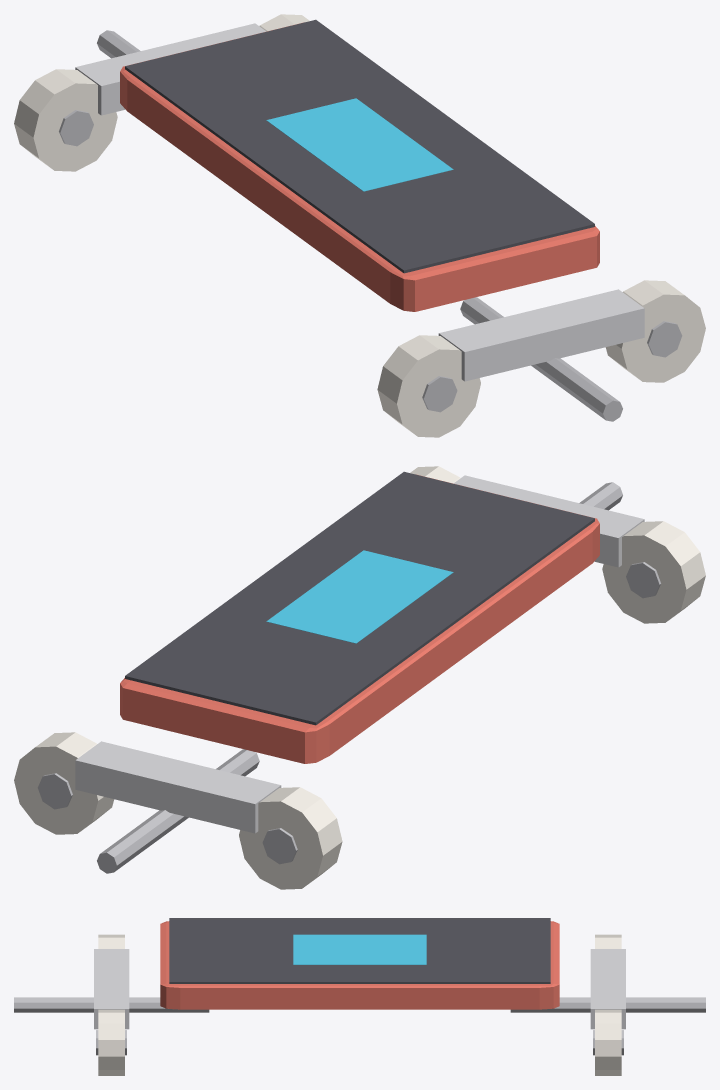
The model's file is skateboard.fbx.
The picture shows the model from 3 angles, top to bottom: view 1: azimuth 30°, elevation 25°; view 2: azimuth 150°, elevation 25°; view 3: azimuth 270°, elevation 25°; orthographic projection. The views are drawn at different scales.
Parts seen in each view (by area): view 1: SK_Grip, SK_Deck, SK_Truck, SK_Decal, SK_Wheel, SK_Wheel.002, SK_Wheel.001, SK_Truck.001, SK_Axle, SK_Hub.001, SK_Hub.002, SK_Hub (+1 smaller); view 2: SK_Grip, SK_Deck, SK_Truck.001, SK_Decal, SK_Wheel.002, SK_Wheel, SK_Wheel.003, SK_Truck, SK_Axle.001, SK_Hub.003, SK_Hub, SK_Hub.002 (+1 smaller); view 3: SK_Grip, SK_Deck, SK_Decal, SK_Truck, SK_Truck.001, SK_Axle, SK_Axle.001, SK_Wheel.001, SK_Wheel.003, SK_Wheel, SK_Wheel.002.
Boxes of the visible parts, x1,y1,x2,y2 form: SK_Grip: (125,19,594,273); SK_Deck: (120,22,599,311); SK_Truck: (438,289,644,381); SK_Decal: (266,98,453,191); SK_Wheel: (377,335,480,437); SK_Wheel.002: (14,69,117,171); SK_Wheel.001: (605,280,705,382); SK_Truck.001: (75,23,265,115); SK_Axle: (460,297,622,421); SK_Hub.001: (647,321,682,357); SK_Hub.002: (59,110,93,146); SK_Hub: (422,376,457,412); SK_Grip: (125,471,594,725); SK_Deck: (120,474,599,763); SK_Truck.001: (75,741,281,833); SK_Decal: (266,550,453,643); SK_Wheel.002: (239,787,342,889); SK_Wheel: (602,521,705,623); SK_Wheel.003: (14,732,114,834); SK_Truck: (454,475,644,567); SK_Axle.001: (97,749,259,873); SK_Hub.003: (37,773,72,809); SK_Hub: (626,562,660,598); SK_Hub.002: (262,828,297,864); SK_Grip: (169,918,550,983); SK_Deck: (160,921,559,1009); SK_Decal: (293,934,426,964); SK_Truck: (94,949,129,1029); SK_Truck.001: (590,949,625,1029); SK_Axle: (14,997,209,1012); SK_Axle.001: (510,997,705,1012); SK_Wheel.001: (98,1009,124,1075); SK_Wheel.003: (595,1009,621,1075); SK_Wheel: (98,934,124,948); SK_Wheel.002: (595,934,621,948).
Size of the model in its own units: 55 by 21.3 by 156.
